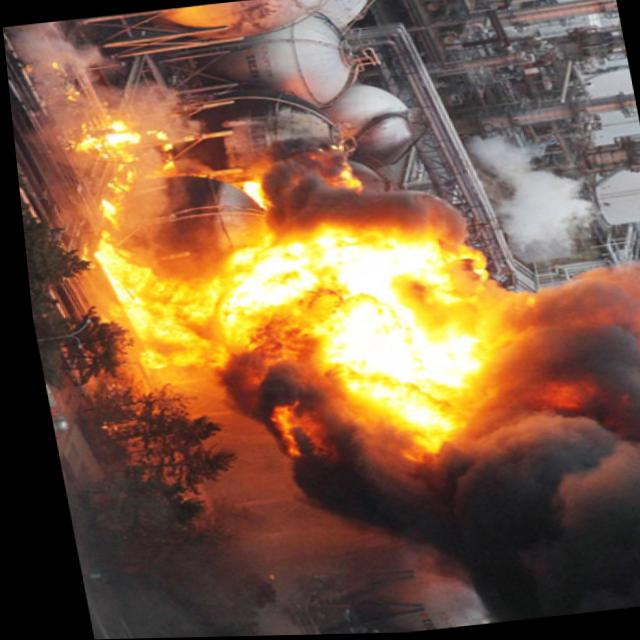Fire: (5, 49, 525, 612), (511, 263, 640, 421)
